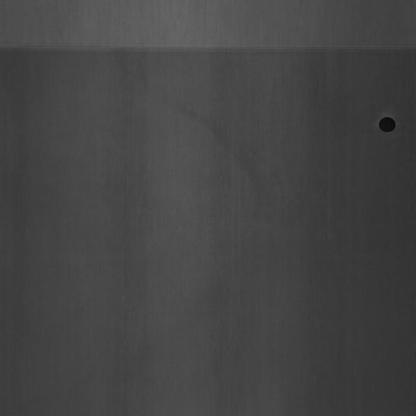punching_hole: (377, 112, 400, 137)
welding_line: (2, 29, 411, 64)
